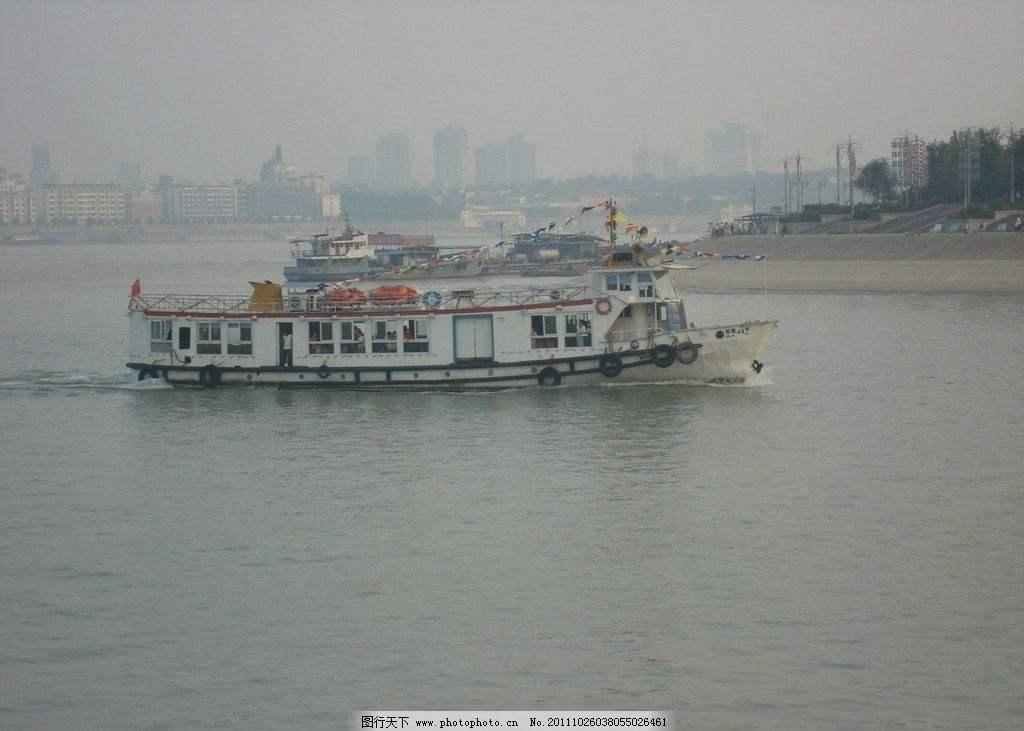otherboat: (118, 200, 778, 389), (279, 246, 392, 282)
